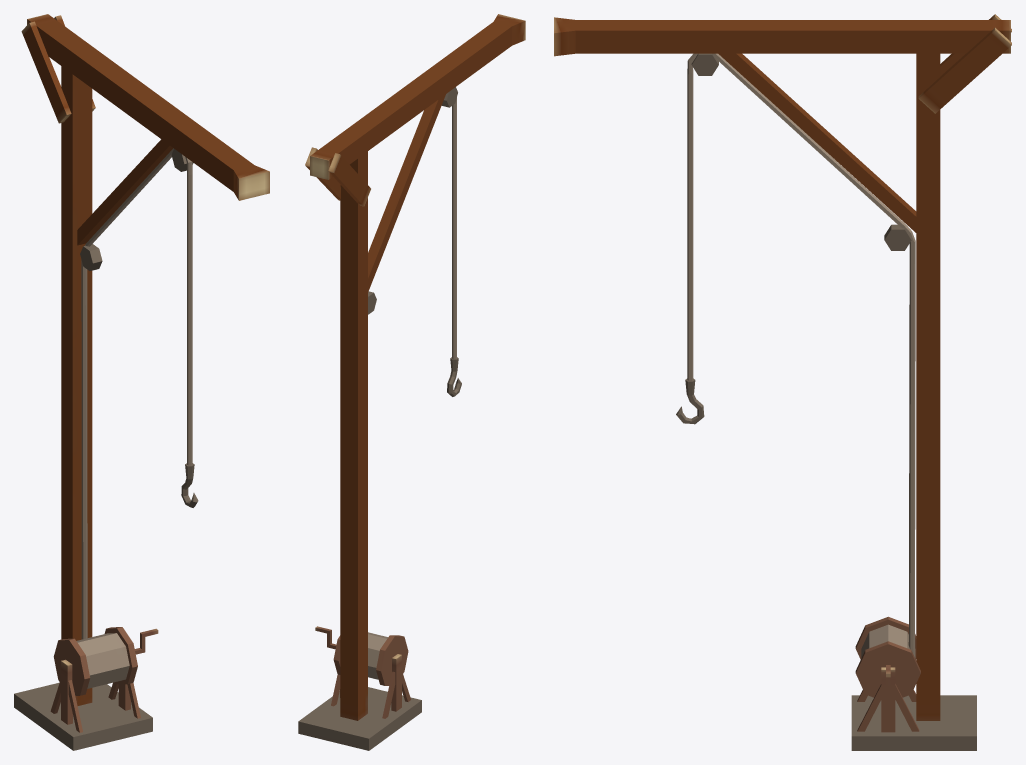
The model's file is kit-gallows.glb.
3 views of the same model, side by side, from view 1: azimuth 30°, elevation 25°; view 2: azimuth 150°, elevation 25°; view 3: azimuth 270°, elevation 25° (orthographic). The views are drawn at different scales.
Parts seen in each view (by area): view 1: Cube.324; view 2: Cube.324; view 3: Cube.324.
Boxes of the visible parts, <box> form: Cube.324: <box>14,14,269,750</box>; Cube.324: <box>298,14,525,750</box>; Cube.324: <box>554,14,1011,750</box>.
Size of the model in its own units: 1.03 by 6.54 by 3.83.
1 material, 1 textured.
